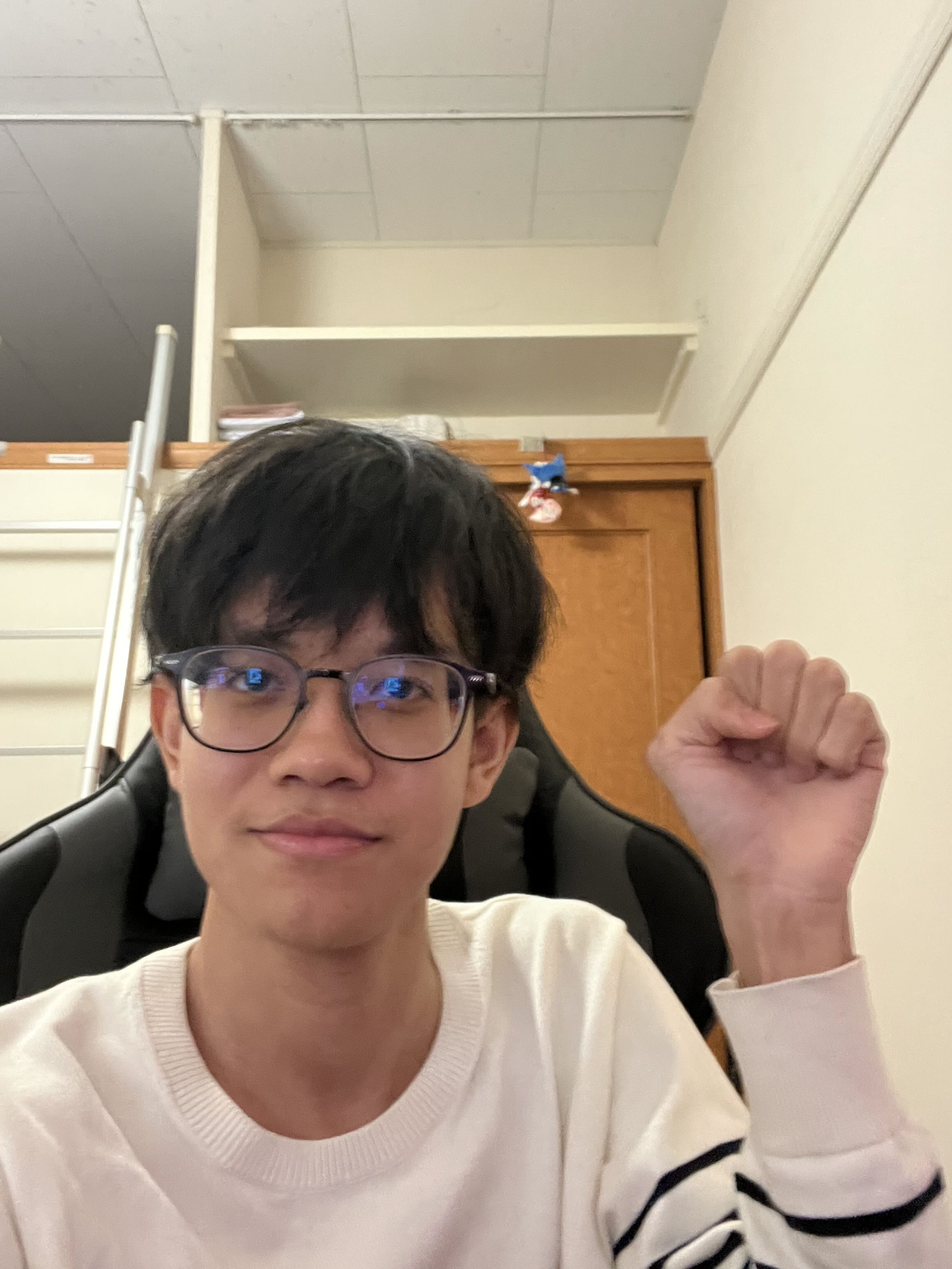right_closed_palm: (675, 647, 860, 884)
